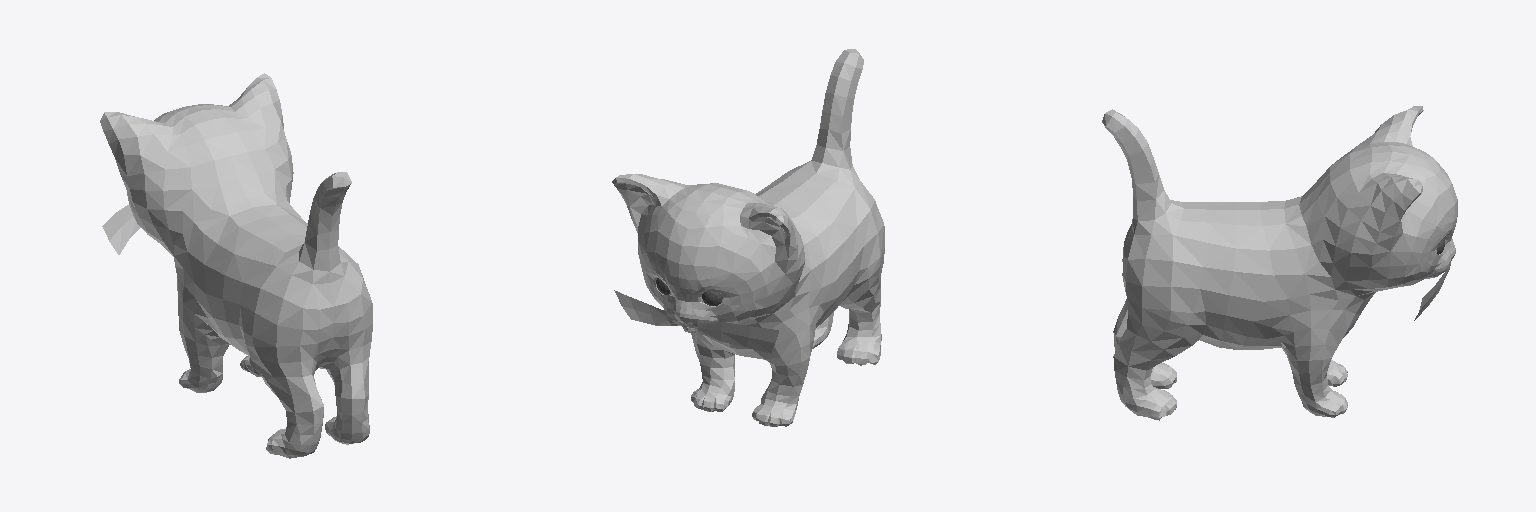
Rendered from kot.obj.
3 renders of one model, left to right at view 1: azimuth 30°, elevation 25°; view 2: azimuth 150°, elevation 25°; view 3: azimuth 270°, elevation 25°, orthographic.
Parts seen in each view (by area): view 1: kitt_Body1_Untitled.001, kitt_Hair1_Untitled.003; view 2: kitt_Body1_Untitled.001, kitt_Hair1_Untitled.003; view 3: kitt_Body1_Untitled.001.
Boxes of the visible parts, <box> form: kitt_Body1_Untitled.001: <box>100,73,372,458</box>; kitt_Hair1_Untitled.003: <box>102,205,140,254</box>; kitt_Body1_Untitled.001: <box>612,49,884,426</box>; kitt_Hair1_Untitled.003: <box>614,290,778,353</box>; kitt_Body1_Untitled.001: <box>1102,106,1457,420</box>.
Bounding box in the file's own units: 0.1406 × 0.2238 × 0.2518.